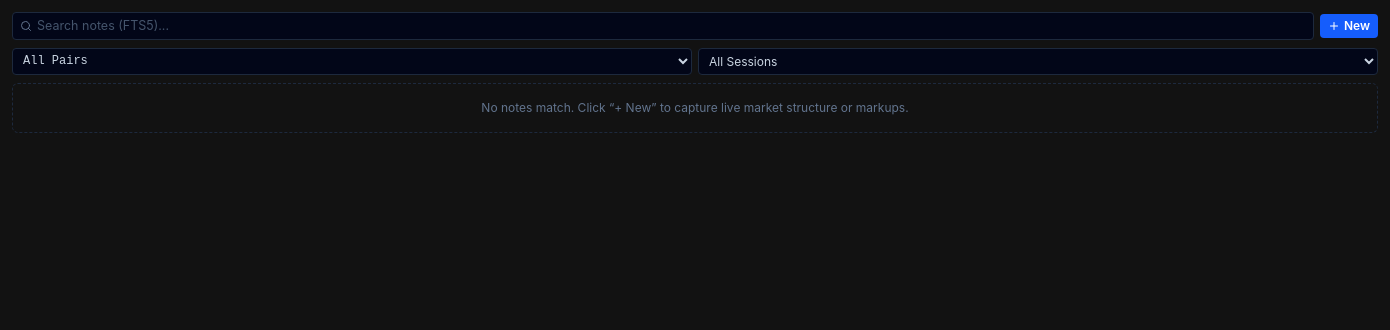
Milestone 3 Widgets › creates, saves, and renders notes in QuickNotesWidget
Expected: the field with placeholder "Search notes (FTS5)..." is shown, [12, 12, 1314, 40]
Click the button "New": {"x": 1349, "y": 26} [1320, 14, 1378, 38]
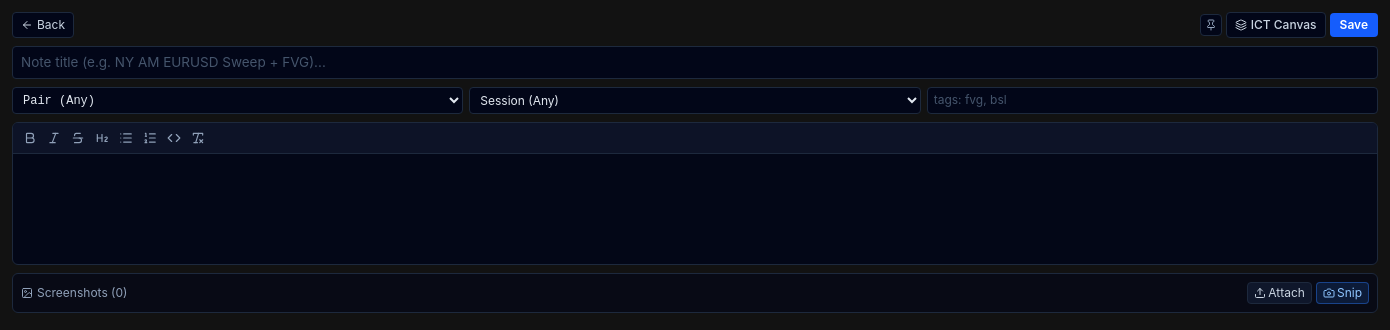
In the field with placeholder "Note title (e.g. NY AM EURUSD Sweep + FVG)...": {"x": 695, "y": 63} [12, 46, 1378, 79], type "NAS100 NY PM Breaker"
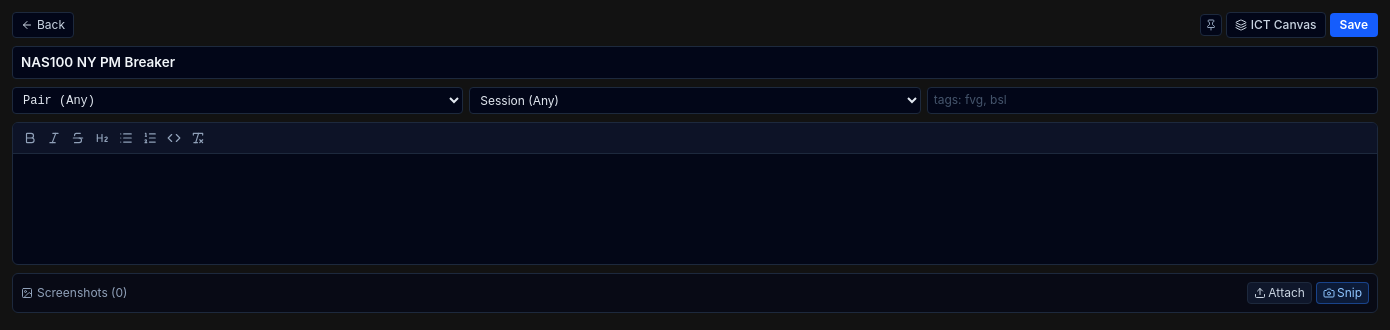
Click the button "Save": {"x": 1354, "y": 25} [1330, 13, 1378, 37]
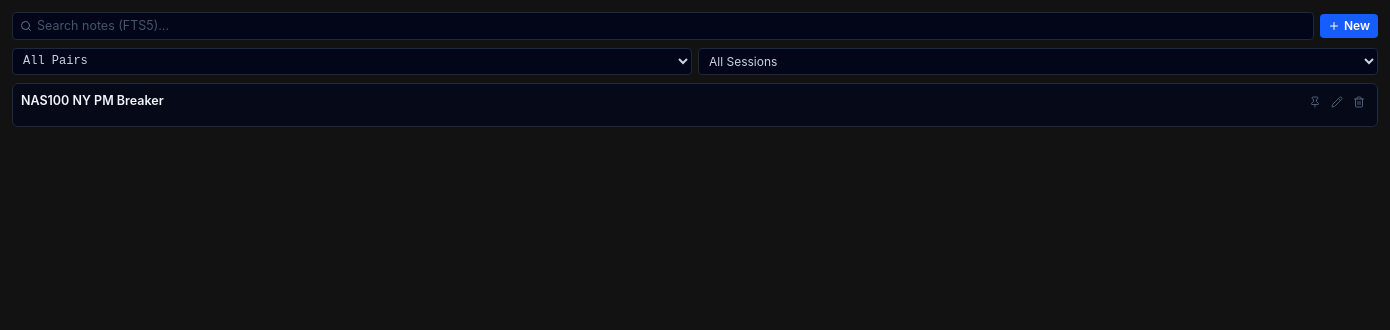
Expected: the field with placeholder "Search notes (FTS5)..." is shown, [12, 12, 1314, 40]
Expected: the text "NAS100 NY PM Breaker" is shown, [21, 92, 164, 109]
